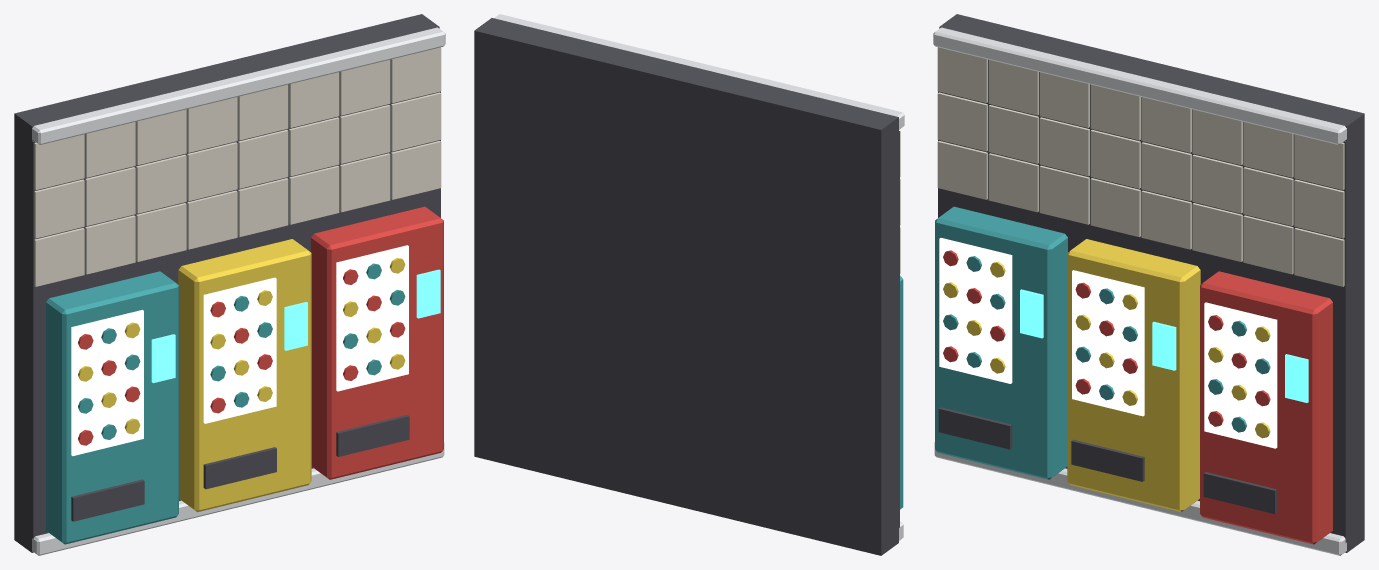
The model's file is wall_mp_vend.glb.
3 renders of one model, left to right at view 1: azimuth 30°, elevation 25°; view 2: azimuth 150°, elevation 25°; view 3: azimuth 330°, elevation 25°, orthographic.
Parts seen in each view (by area): view 1: wall_mp_vend; view 2: wall_mp_vend; view 3: wall_mp_vend.
Boxes of the visible parts, x1,y1,x2,y2 form: wall_mp_vend: (14, 14, 445, 555); wall_mp_vend: (474, 14, 904, 555); wall_mp_vend: (933, 14, 1364, 555).
Bounding box in the file's own units: 4 × 4 × 0.67.
